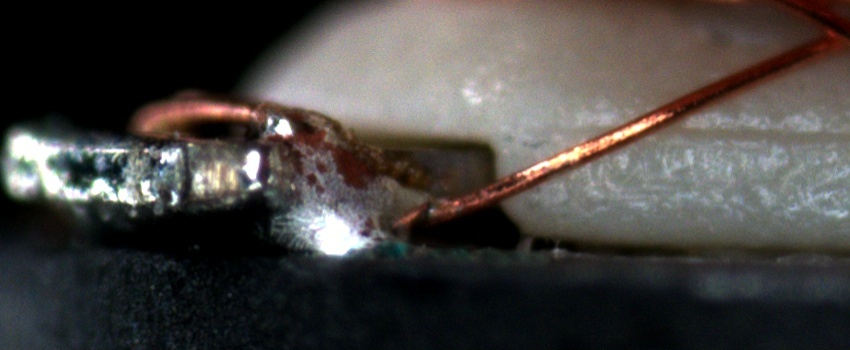CL: (795, 6, 850, 61)
DL: (552, 102, 850, 162)
TE: (124, 88, 319, 137)
